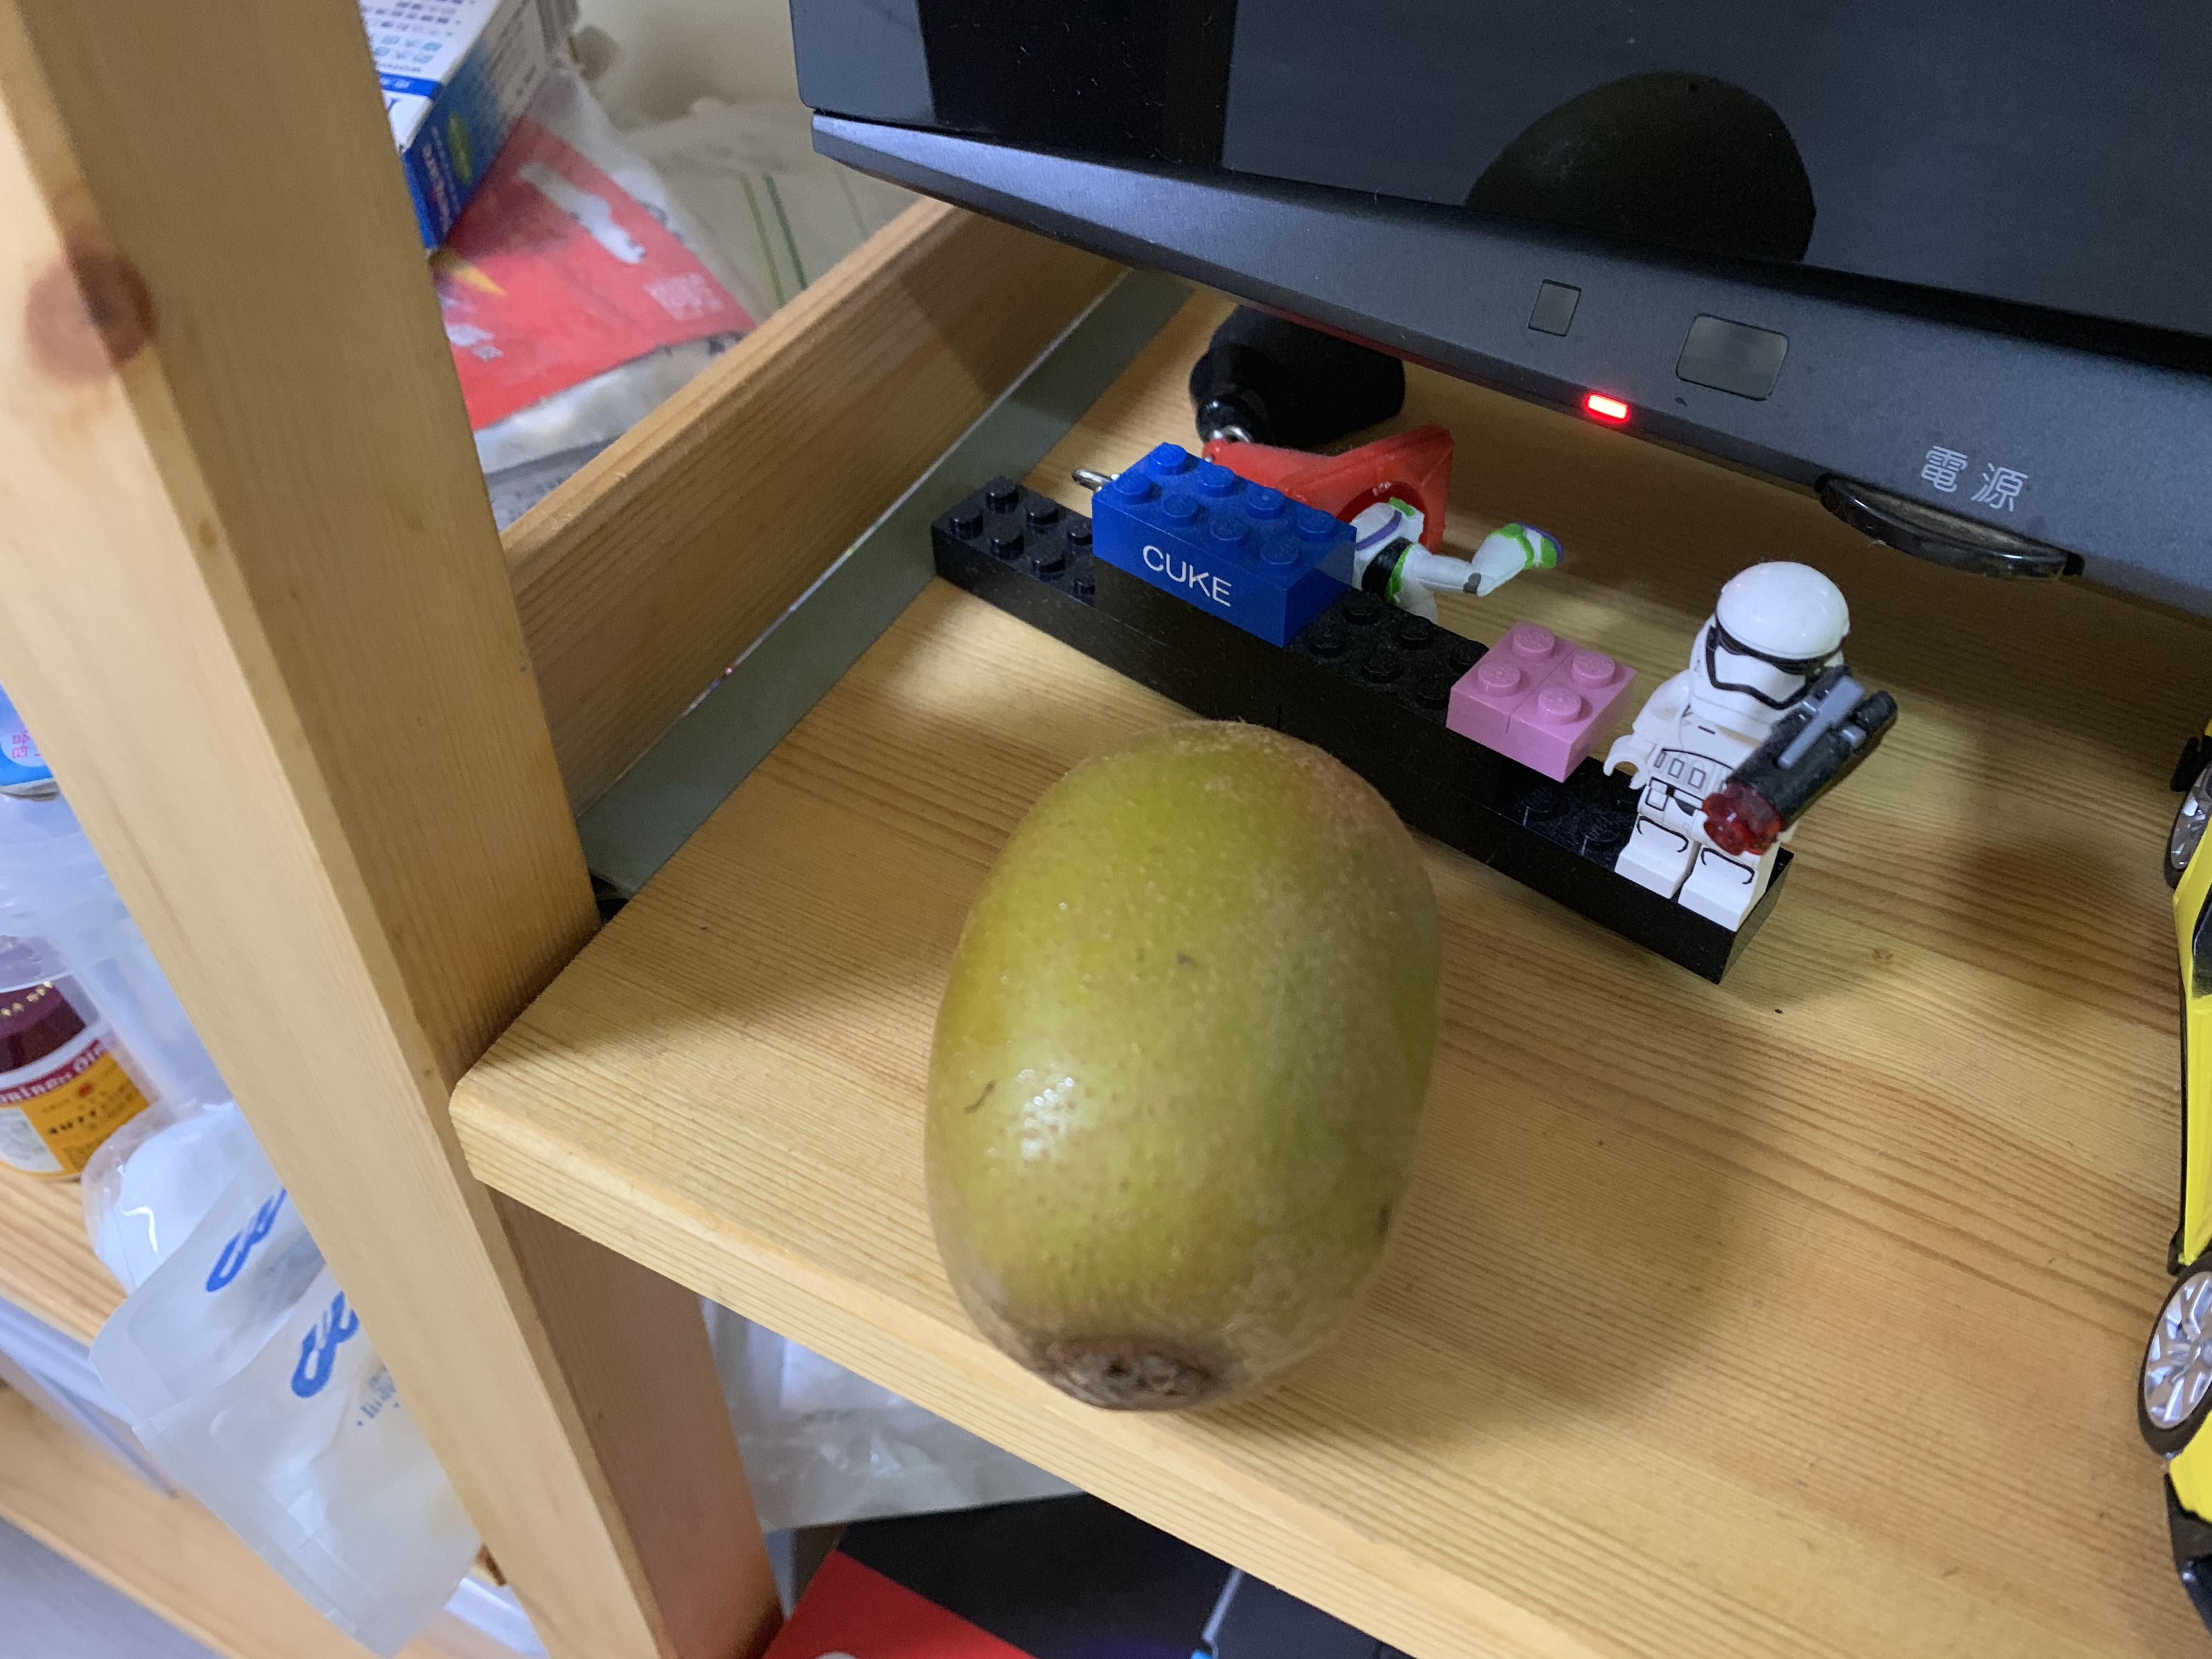kiwi: (925, 720, 1440, 1410)
